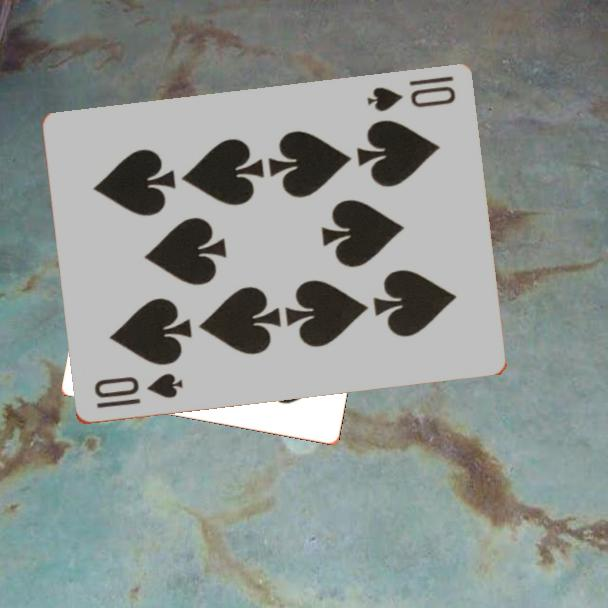s10: (90, 370, 185, 412), (363, 73, 458, 115)
